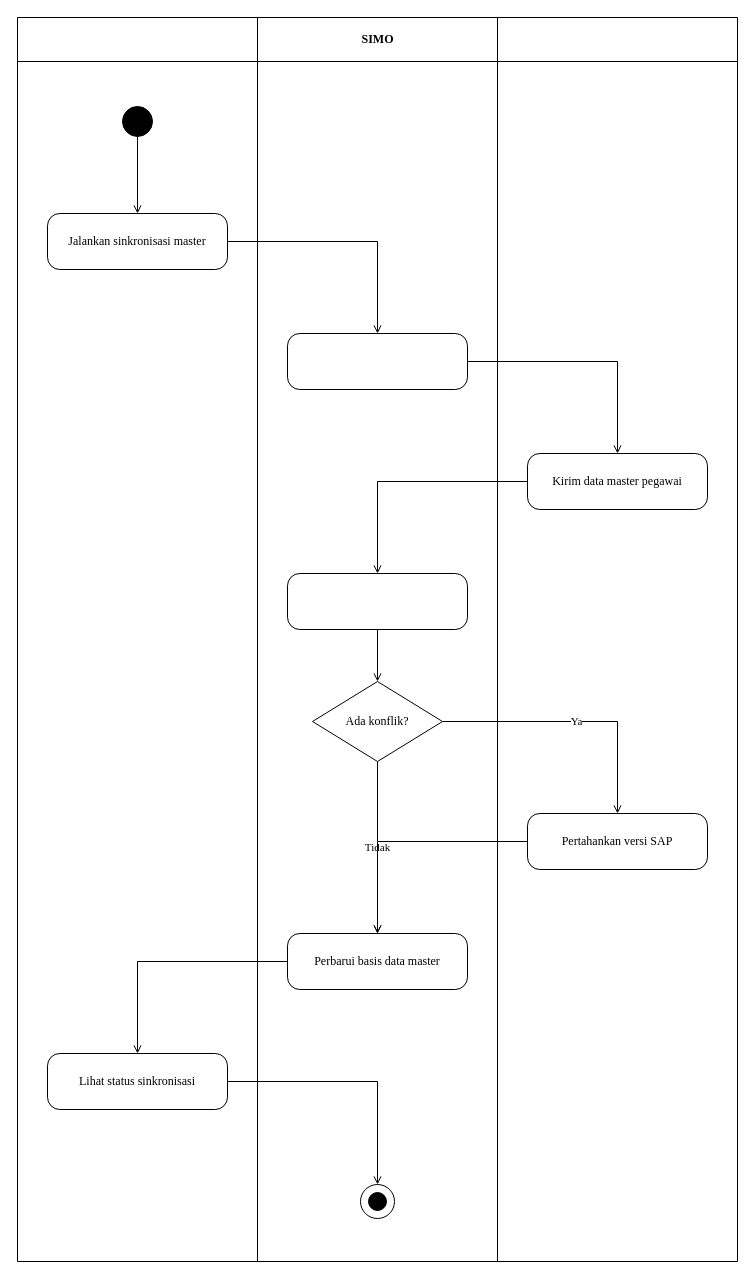
Image size: 755x1279. Some labels were removed from this diagram. Here are the shapes that lost their labels. From the top down, the box of each, then its label:
(286, 332, 468, 390): Minta data master pegawai
(286, 572, 468, 630): Validasi & selaraskan data
(16, 16, 258, 1262): Cost Accounting
(496, 16, 738, 1262): SAP ERP SDM
